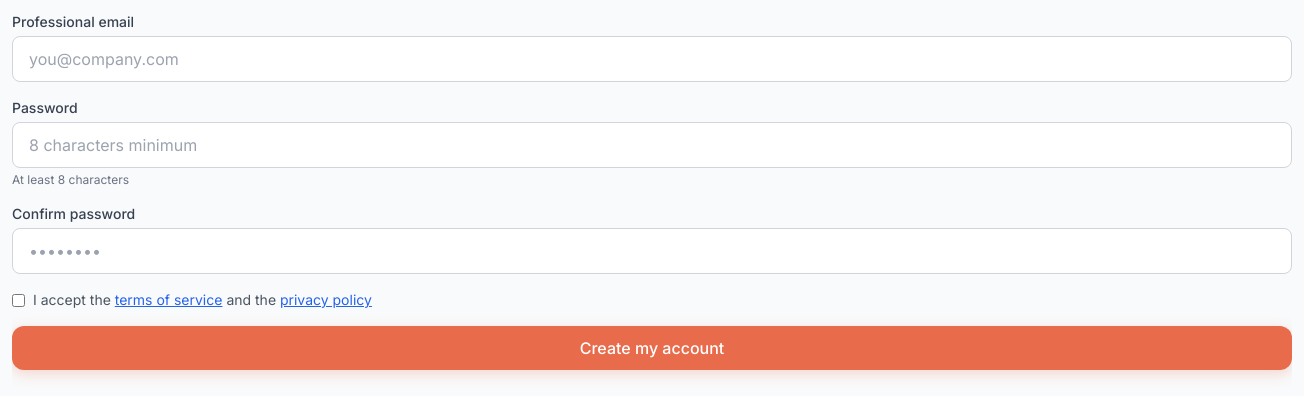
Test: RegisterForm › shows success state with email confirmation message
The width and height of the screenshot is (1304, 396).
Type "jane@lawfirm.com" into the field with placeholder "you@company.com" at (652, 59), box [12,36,1292,82]
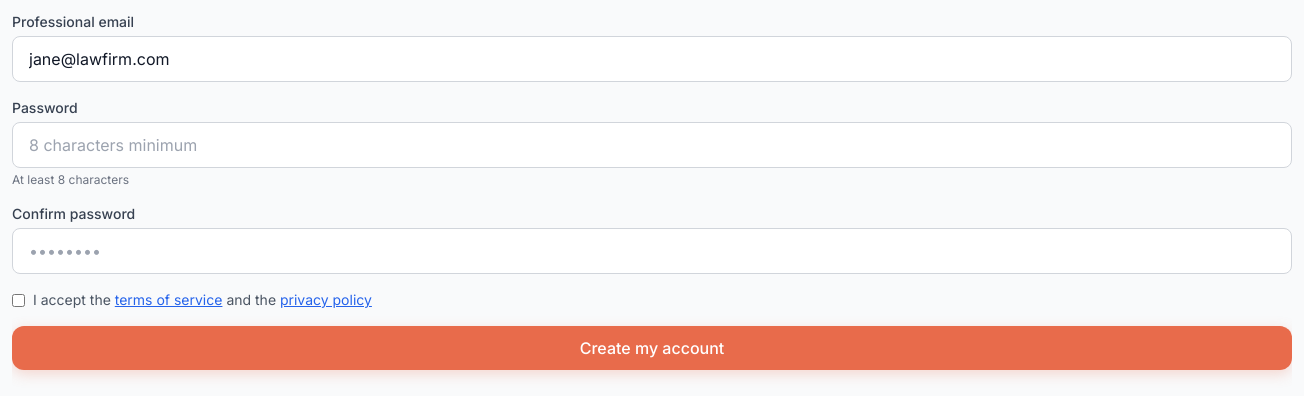
Type "password123" into the password field with placeholder "8 characters minimum" at (652, 145), box [12,122,1292,168]
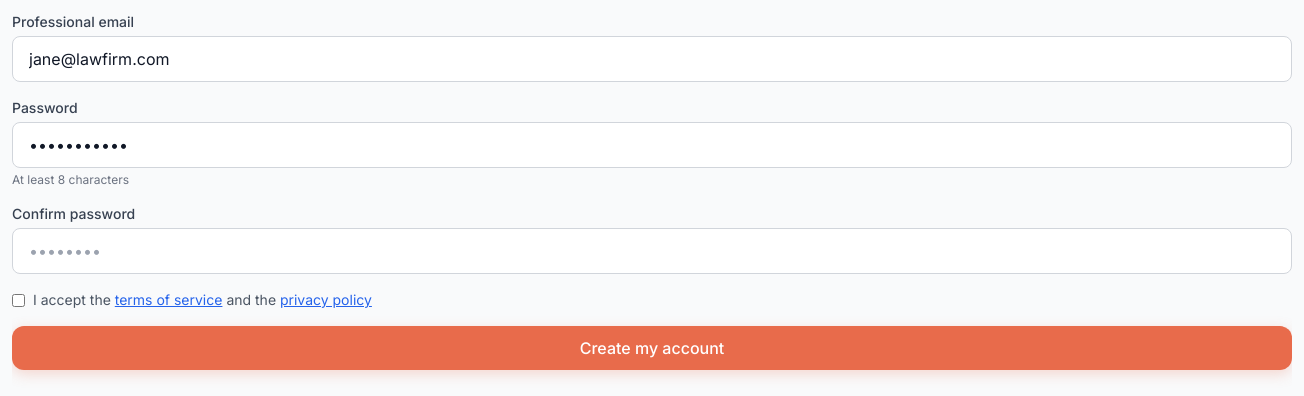
Type "password123" into the password field with placeholder "••••••••" at (652, 251), box [12,228,1292,274]
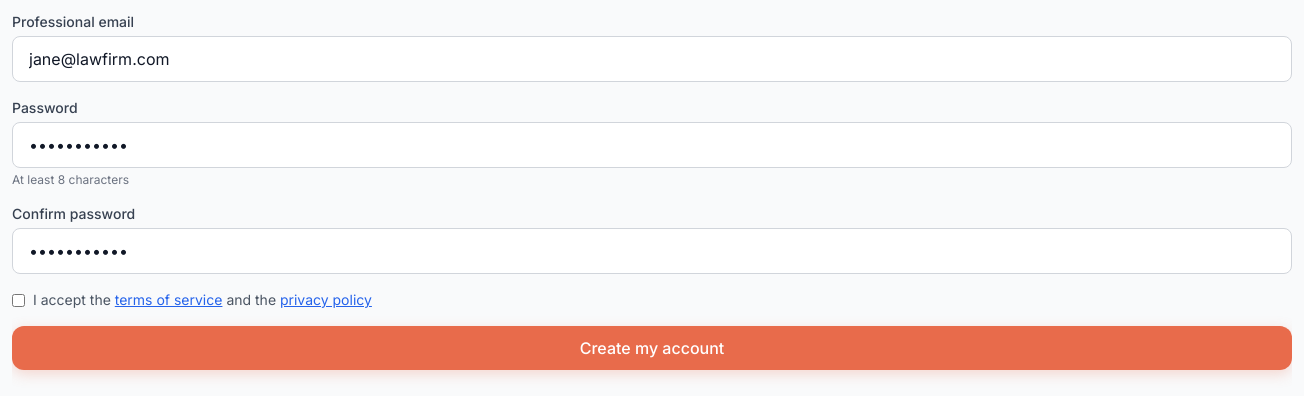
Click the checkbox at (18, 300), box [12,294,25,307]
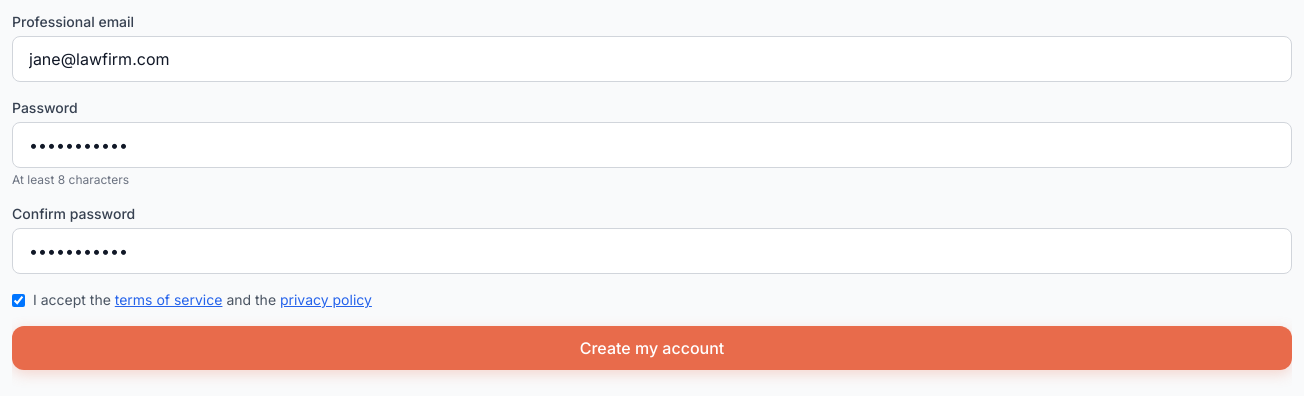
Submit the form from the button "Create my account", box [12,326,1292,370]
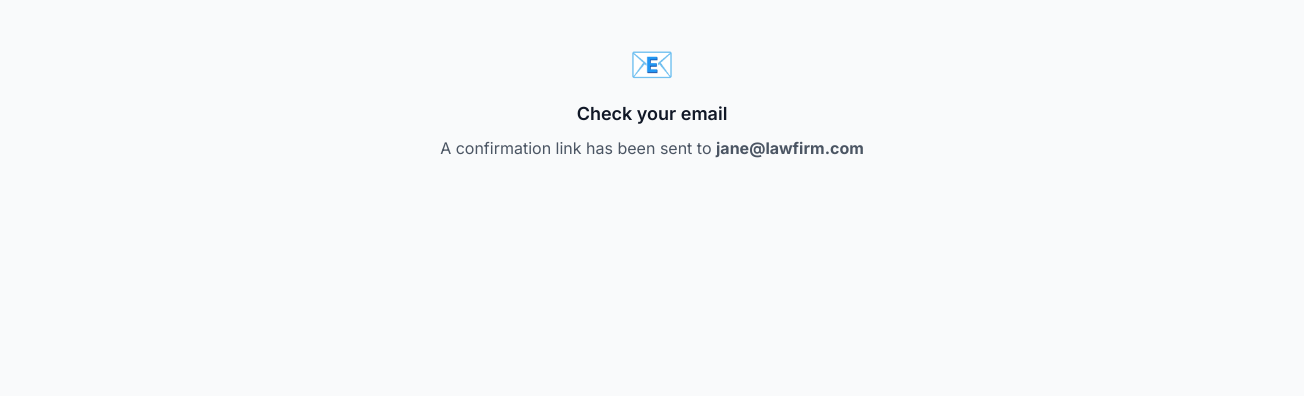
Result: the heading "Check your email" is shown at [577,103,727,124]
Result: the text "A confirmation link has been sent to jane@lawfirm.com" is shown at [440,138,864,158]
Result: the text "jane@lawfirm.com" is shown at [716,138,864,158]
